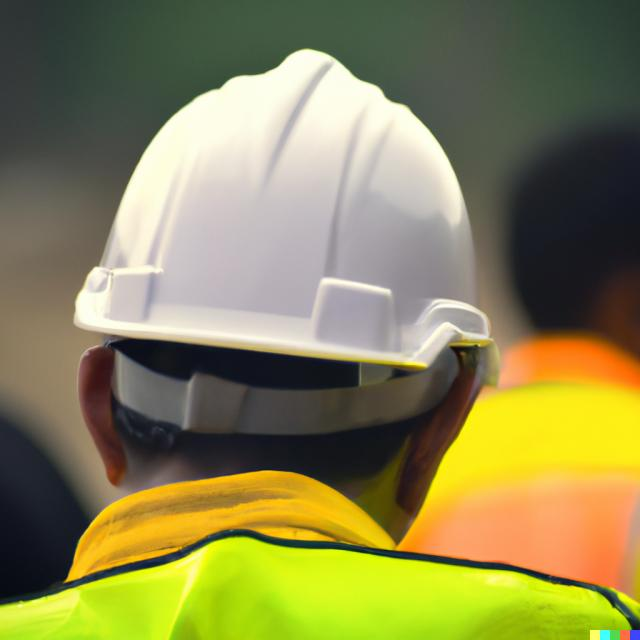Reflective-Jacket: (11, 481, 640, 638)
Safety-Helmet: (72, 51, 492, 375)
